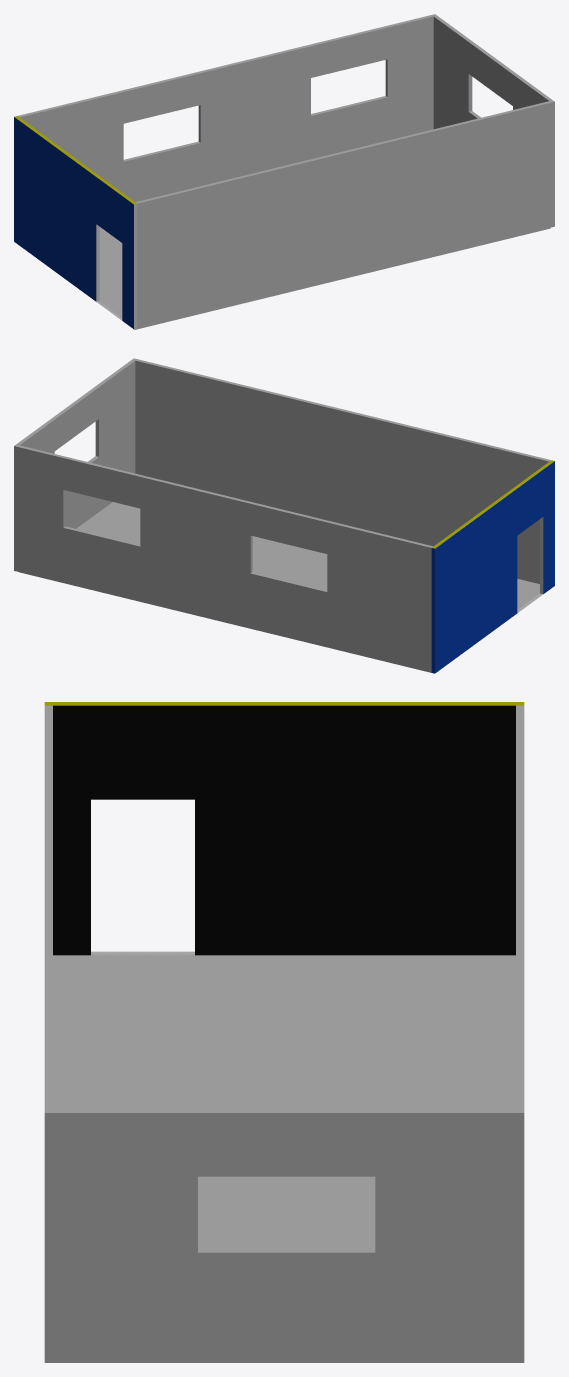
Rendered from Habitaculo2x1.fbx.
The picture shows the model from 3 angles, top to bottom: view 1: azimuth 30°, elevation 25°; view 2: azimuth 150°, elevation 25°; view 3: azimuth 270°, elevation 25°; orthographic projection. The views are drawn at different scales.
Visible parts, largest first — view 1: pCube13; view 2: pCube13; view 3: pCube13.
Part boxes in pixels (box(x1,y1,x2,y2)): pCube13: box(14, 14, 554, 329); pCube13: box(14, 358, 554, 673); pCube13: box(44, 702, 524, 1362).
Bounding box in the file's own units: 16.23 × 4.66 × 8.
